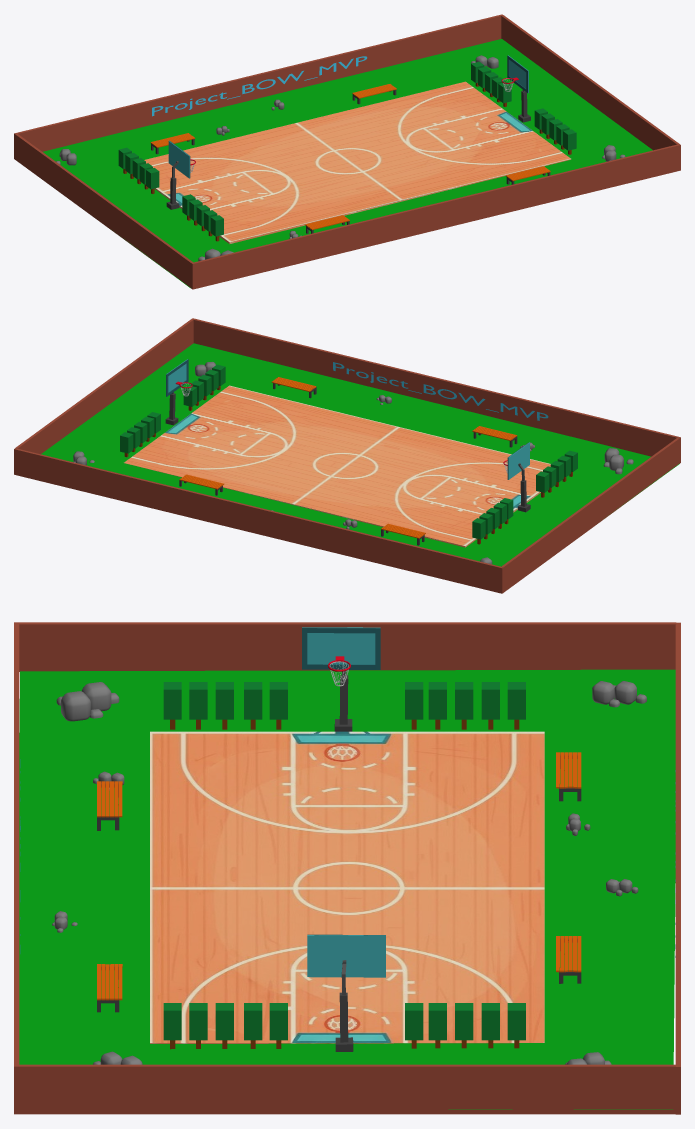
Rendered from Pr_Bow_MVP_Map.fbx.
3 views of the same model, one above another, from view 1: azimuth 30°, elevation 25°; view 2: azimuth 150°, elevation 25°; view 3: azimuth 270°, elevation 25° (orthographic). The views are drawn at different scales.
Visible parts, largest first — view 1: Basketball_crt, Arena_Ground, Wall_4, Wall_3, Wall_2, Wall_1, Tree.009, Tree.001, Basketballset.001, Basketballset, Text_BOW; view 2: Basketball_crt, Arena_Ground, Wall_3, Wall_4, Wall_2, Wall_1, Tree.009, Tree.001, Basketballset.001, Basketballset, Text_BOW2, Rock.007; view 3: Arena_Ground, Basketball_crt, Wall_1, Wall_2, Tree.009, Tree.001, Basketballset, Basketballset.001, Wall_4, Wall_3, Rock.007, Bench.002 (+4 smaller).
Part boxes in pixels (left/top/right/bottom): Basketball_crt: left=144, top=81, right=571, bottom=243; Arena_Ground: left=43, top=39, right=652, bottom=287; Wall_4: left=191, top=144, right=680, bottom=289; Wall_3: left=14, top=14, right=502, bottom=159; Wall_2: left=15, top=133, right=193, bottom=288; Wall_1: left=501, top=15, right=679, bottom=150; Tree.009: left=118, top=147, right=223, bottom=241; Tree.001: left=471, top=61, right=576, bottom=154; Basketballset.001: left=166, top=140, right=195, bottom=209; Basketballset: left=501, top=55, right=530, bottom=122; Text_BOW: left=152, top=56, right=367, bottom=116; Basketball_crt: left=124, top=385, right=550, bottom=547; Arena_Ground: left=41, top=343, right=679, bottom=566; Wall_3: left=14, top=448, right=503, bottom=593; Wall_4: left=192, top=318, right=680, bottom=463; Wall_2: left=501, top=438, right=679, bottom=592; Wall_1: left=15, top=319, right=193, bottom=454; Tree.009: left=472, top=450, right=577, bottom=544; Tree.001: left=120, top=364, right=225, bottom=457; Basketballset.001: left=503, top=442, right=530, bottom=512; Basketballset: left=165, top=359, right=192, bottom=425; Text_BOW2: left=333, top=362, right=548, bottom=420; Rock.007: left=603, top=448, right=633, bottom=474; Arena_Ground: left=19, top=669, right=675, bottom=1109; Basketball_crt: left=150, top=731, right=544, bottom=1043; Wall_1: left=18, top=1064, right=675, bottom=1114; Wall_2: left=19, top=622, right=676, bottom=671; Tree.009: left=163, top=682, right=525, bottom=729; Tree.001: left=163, top=1003, right=525, bottom=1049; Basketballset: left=307, top=934, right=385, bottom=1051; Basketballset.001: left=302, top=627, right=380, bottom=731; Wall_4: left=14, top=622, right=19, bottom=1114; Wall_3: left=675, top=622, right=680, bottom=1114; Rock.007: left=56, top=682, right=119, bottom=721; Bench.002: left=556, top=752, right=581, bottom=801.
Size of the model in its own units: 4010 by 496 by 2536.
Materials: 18 (1 with a texture image).
